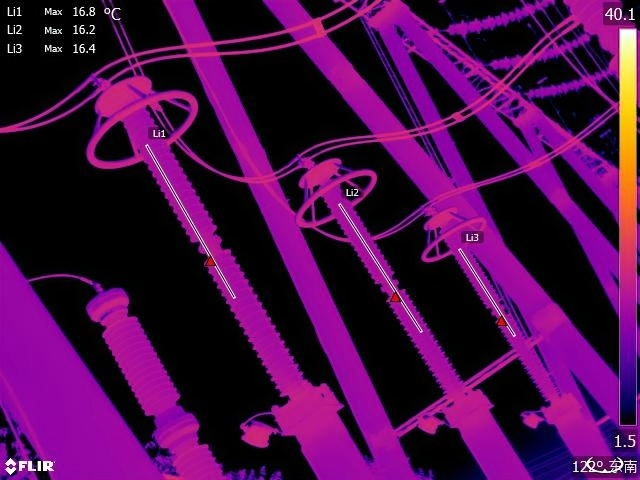insulator: (490, 31, 588, 74), (447, 1, 562, 37), (523, 66, 612, 96)
lightning arrester: (83, 59, 347, 439), (285, 140, 490, 428), (416, 206, 576, 407)
potential transformer: (76, 273, 229, 480)
